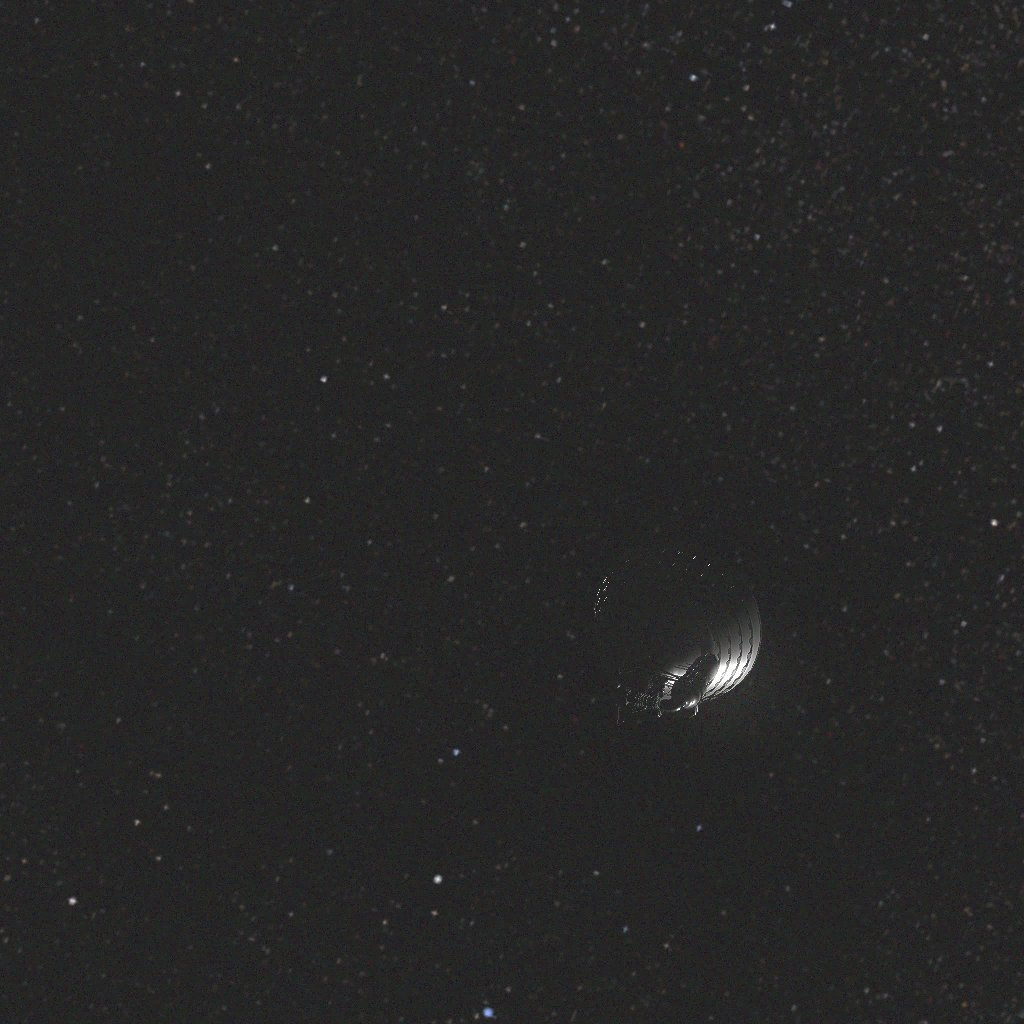debris: (593, 540, 761, 727)
